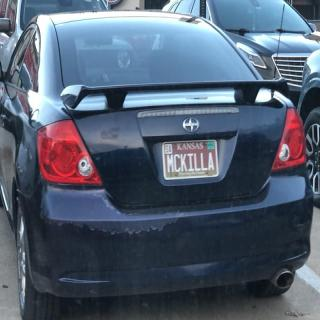license: (163, 140, 220, 181)
